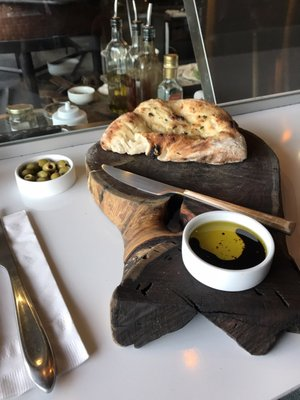sandwich: (0, 208, 92, 374)
sushi: (182, 210, 274, 291), (14, 154, 76, 198), (67, 86, 95, 105)
